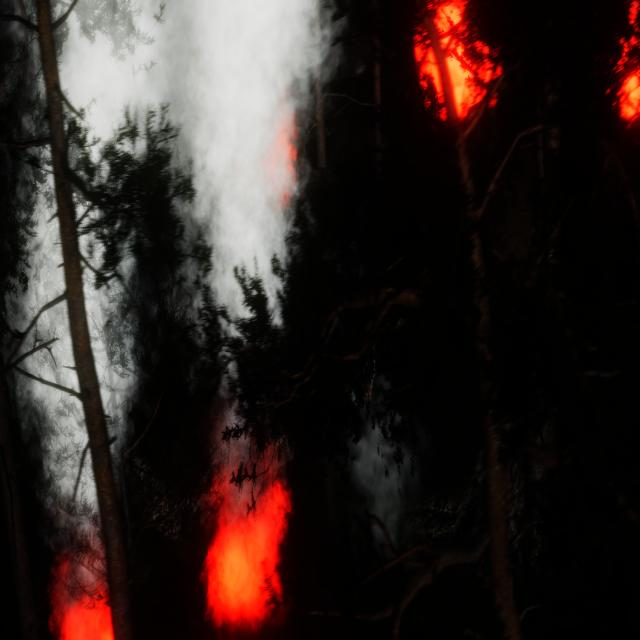Human: (345, 318, 380, 449)
